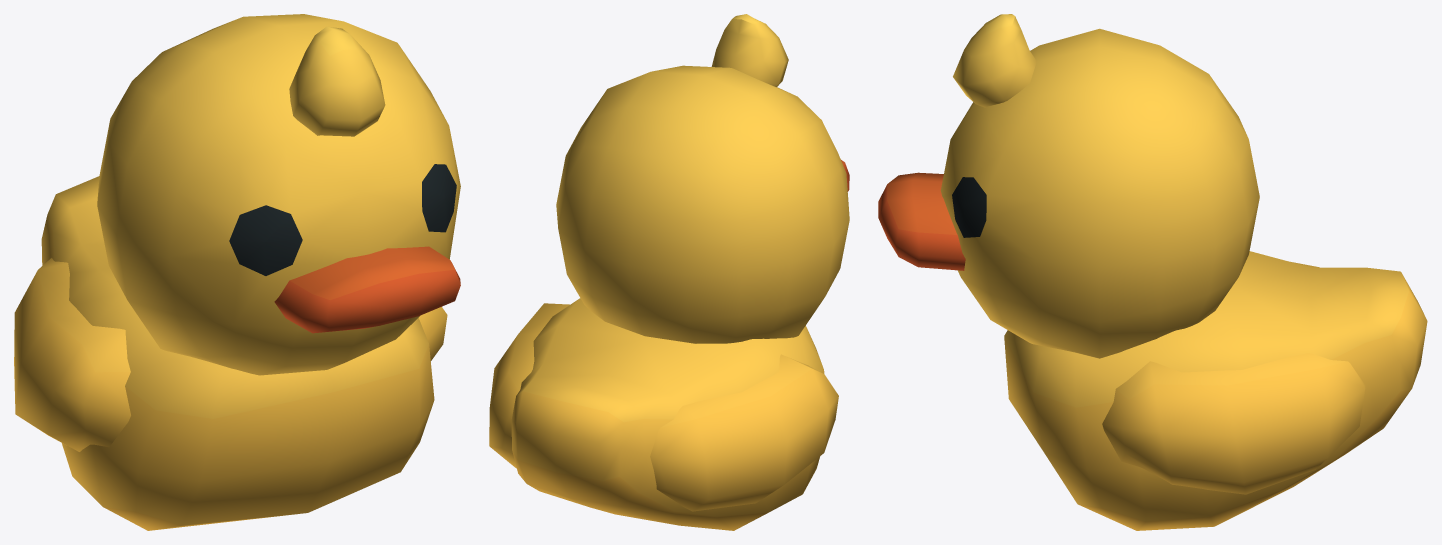
The model's file is Ducky.glb.
The picture shows the model from 3 angles, left to right: view 1: azimuth 30°, elevation 25°; view 2: azimuth 150°, elevation 25°; view 3: azimuth 270°, elevation 25°; orthographic projection. The views are drawn at different scales.
Parts seen in each view (by area): view 1: ducky; view 2: ducky; view 3: ducky.
Part boxes in pixels (bbox=[...]): ducky: bbox=[14, 14, 460, 530]; ducky: bbox=[489, 14, 849, 530]; ducky: bbox=[878, 14, 1427, 530].
Size of the model in its own units: 0.2983 by 0.403 by 0.4209.
Materials: 1 (1 with a texture image).
